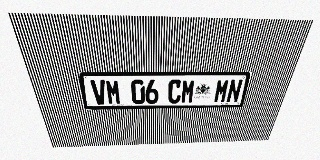0: (131, 80, 145, 104)
6: (145, 79, 159, 104)
C: (168, 79, 182, 104)
M: (213, 79, 230, 103), (105, 80, 121, 105), (181, 79, 196, 103)
N: (226, 79, 243, 103)
V: (90, 80, 108, 105)
